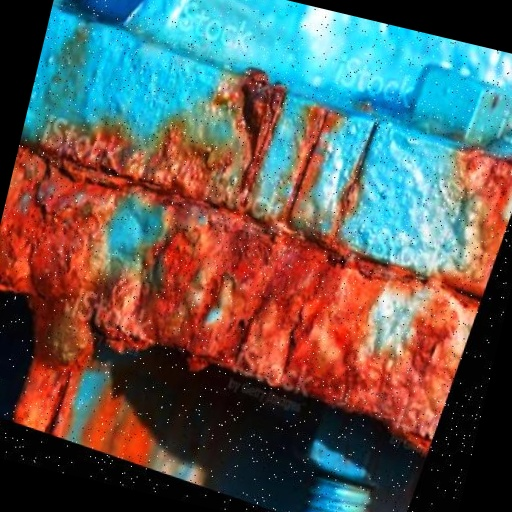corrosion: (0, 132, 496, 458), (425, 127, 512, 267)
crack: (276, 96, 355, 233), (321, 112, 395, 257), (36, 361, 87, 440)
